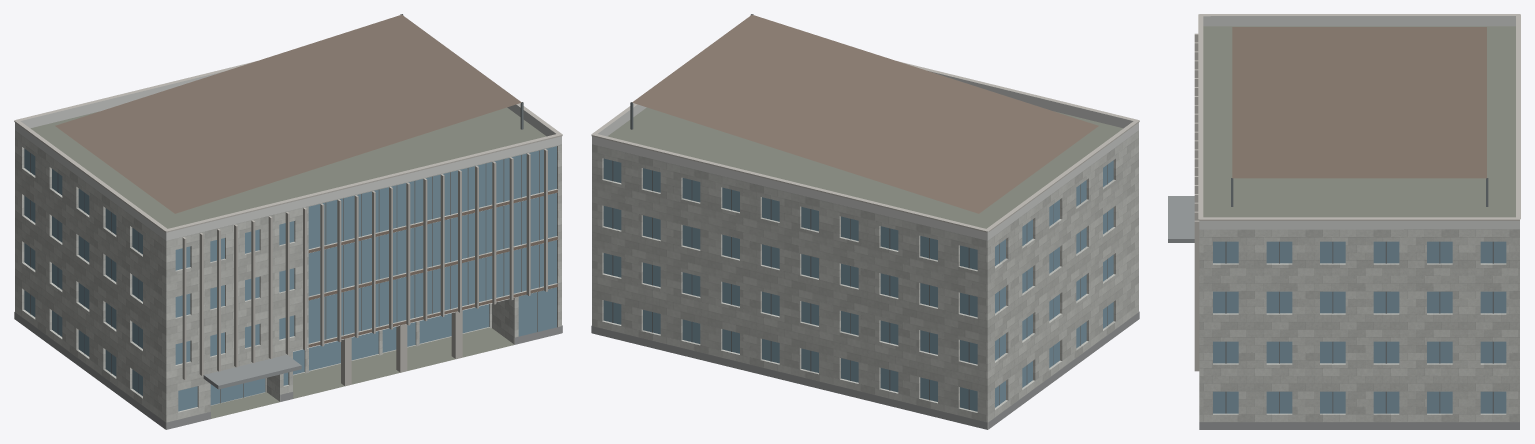
3 views of the same model, side by side, from view 1: azimuth 30°, elevation 25°; view 2: azimuth 150°, elevation 25°; view 3: azimuth 270°, elevation 25° (orthographic). The views are drawn at different scales.
Visible parts, largest first — view 1: music__wall2, music__wall, music__glass, music__trim, music__roof, music__parapet, music__frame, music__spandrel, music__base, music__column, music__canopy; view 2: music__wall, music__wall2, music__glass, music__roof, music__parapet, music__base, music__trim, music__frame; view 3: music__wall, music__wall2, music__roof, music__glass, music__parapet, music__trim, music__base, music__canopy, music__frame.
Boxes of the visible parts, <box> form: music__wall2: <box>55,14,521,213</box>; music__wall: <box>15,130,561,429</box>; music__glass: <box>24,146,556,411</box>; music__trim: <box>14,61,562,379</box>; music__roof: <box>30,107,546,418</box>; music__parapet: <box>15,71,561,240</box>; music__frame: <box>30,14,556,403</box>; music__spandrel: <box>308,189,557,347</box>; music__base: <box>14,312,562,429</box>; music__column: <box>341,310,462,385</box>; music__canopy: <box>203,355,301,389</box>; music__wall: <box>592,130,1138,429</box>; music__wall2: <box>632,14,1098,213</box>; music__glass: <box>603,158,1113,411</box>; music__roof: <box>607,107,1123,228</box>; music__parapet: <box>592,71,1138,240</box>; music__base: <box>591,311,1139,429</box>; music__trim: <box>591,61,1139,232</box>; music__frame: <box>612,14,1107,409</box>; music__wall: <box>1199,229,1519,422</box>; music__wall2: <box>1232,27,1486,178</box>; music__roof: <box>1203,26,1515,217</box>; music__glass: <box>1213,241,1506,413</box>; music__parapet: <box>1199,16,1519,229</box>; music__trim: <box>1194,14,1520,371</box>; music__base: <box>1199,422,1519,429</box>; music__canopy: <box>1168,196,1194,242</box>; music__frame: <box>1225,178,1493,413</box>.
Bounding box in the file's own units: 34.35 × 18.62 × 24.92.
12 materials, 1 textured.
